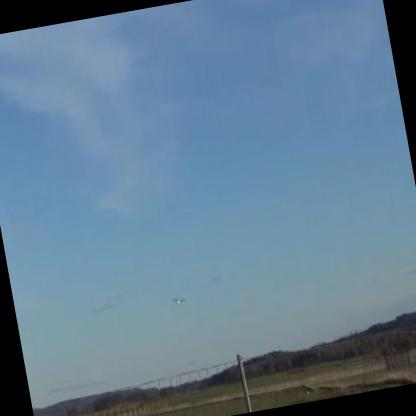plane: (172, 294, 188, 306)
